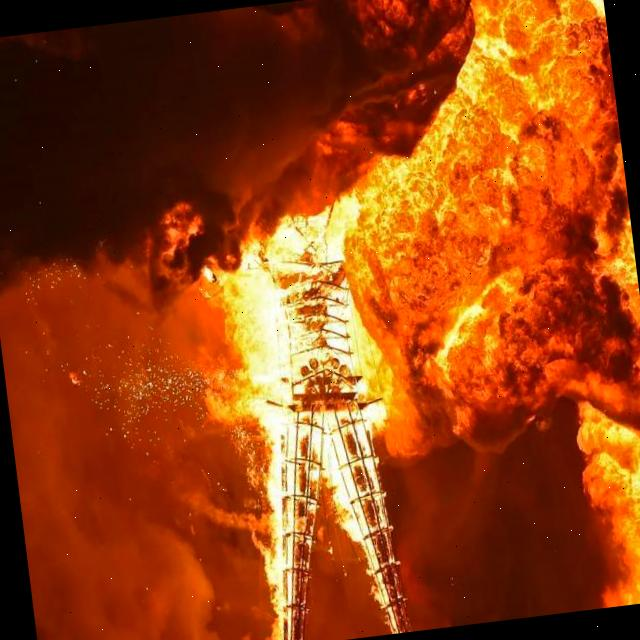fire: (319, 0, 640, 625), (194, 186, 466, 640)
